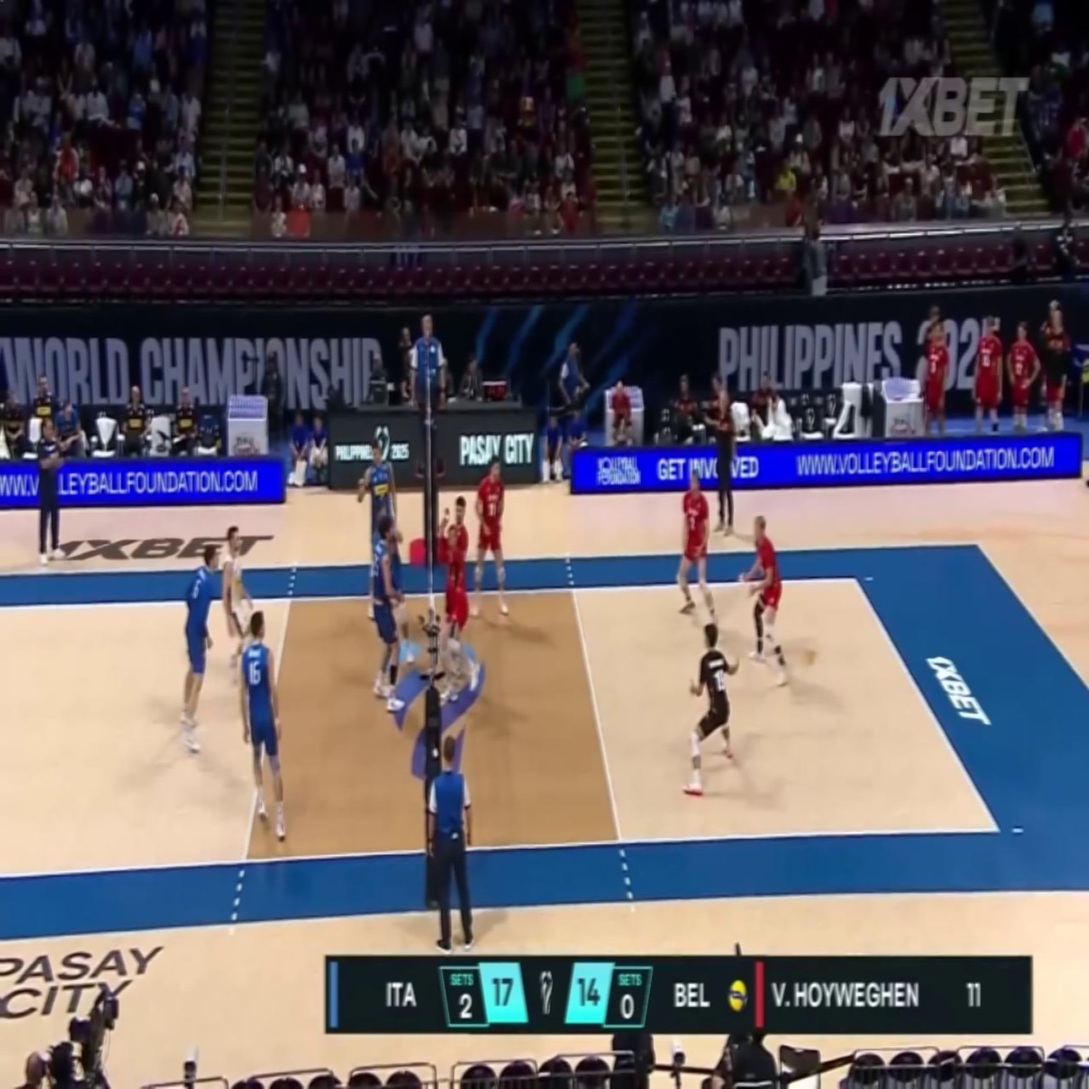ball: (802, 639, 816, 667)
